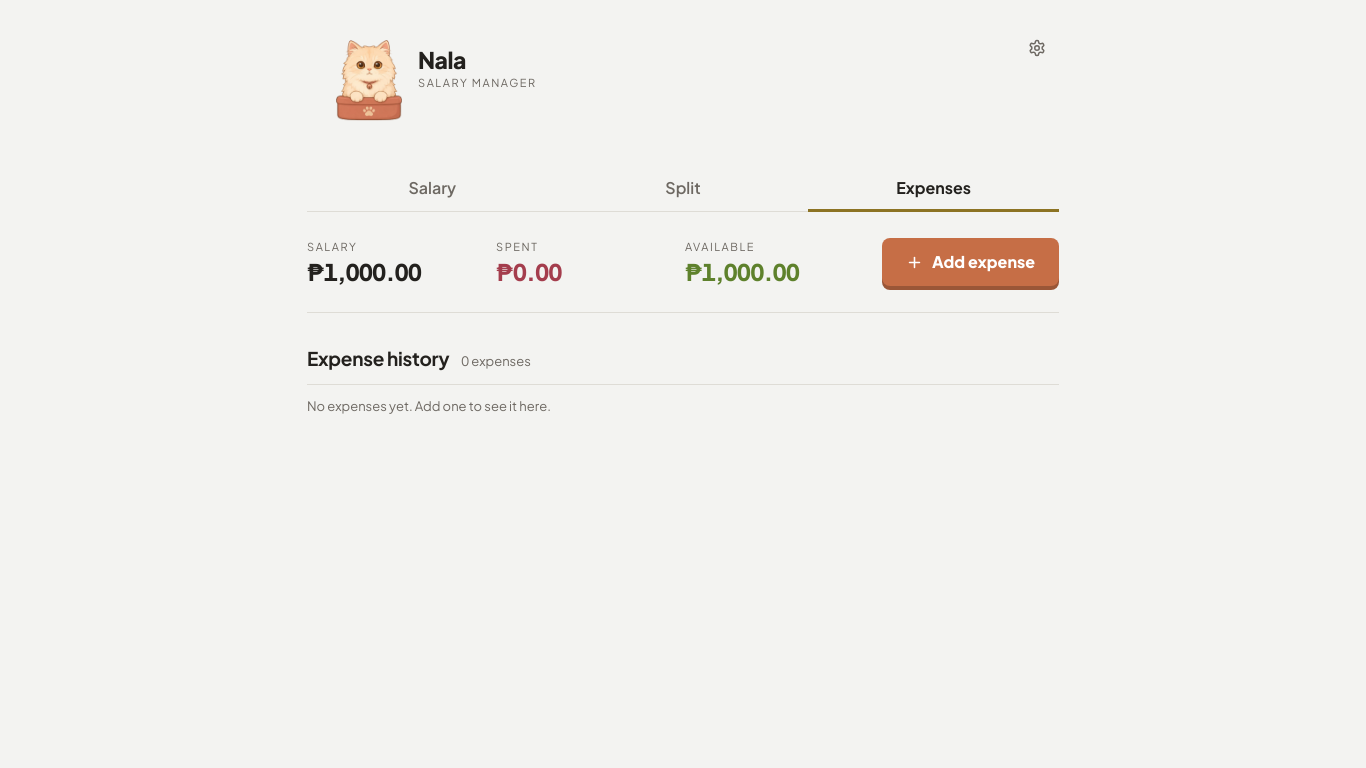
Scenario: expense tracking in App › adds an expense and updates the history and salary summary
The image size is (1366, 768).
Expected: the tab "Expenses" is shown, [808,168,1059,212]
Click the button "Add expense" at {"x": 971, "y": 262}, box [882,238,1059,286]
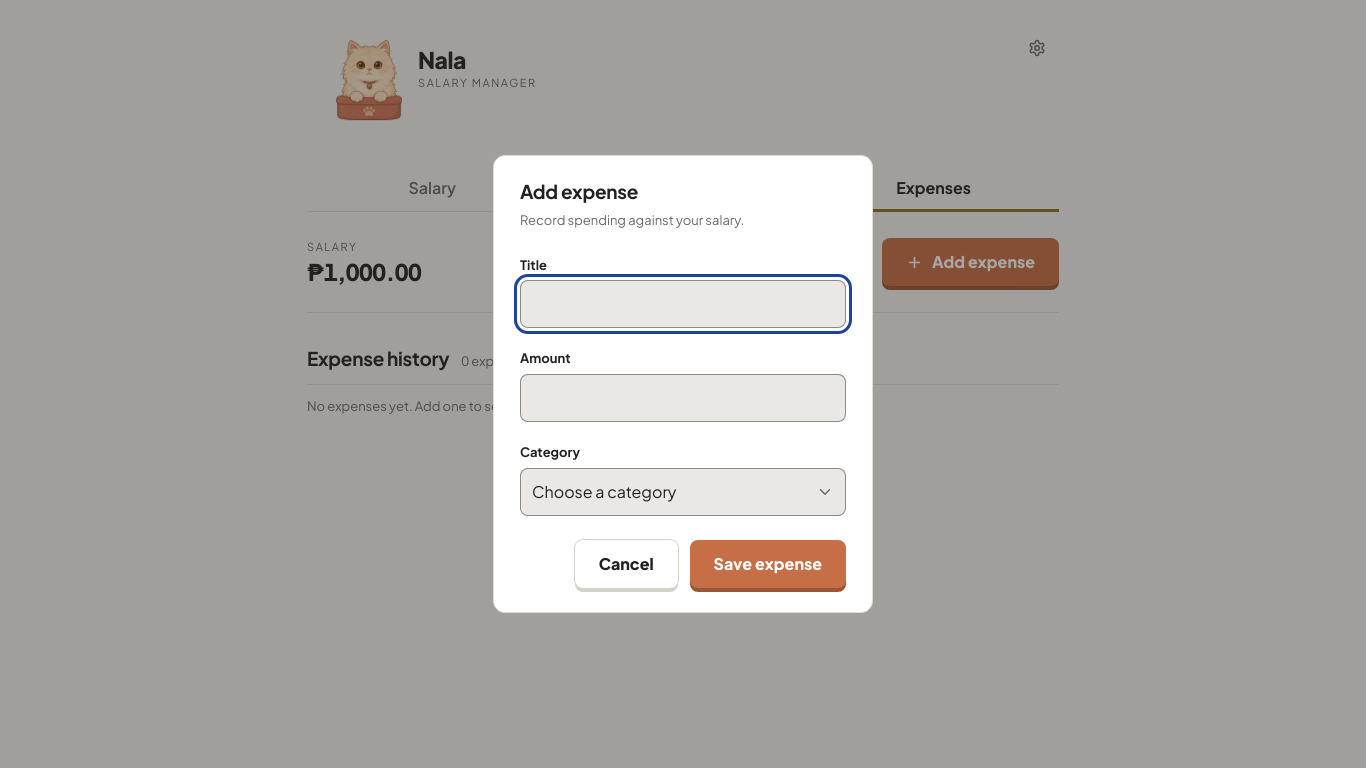
Type "Lunch" into the field labelled "Title" at {"x": 683, "y": 304}, box [520,280,846,328]
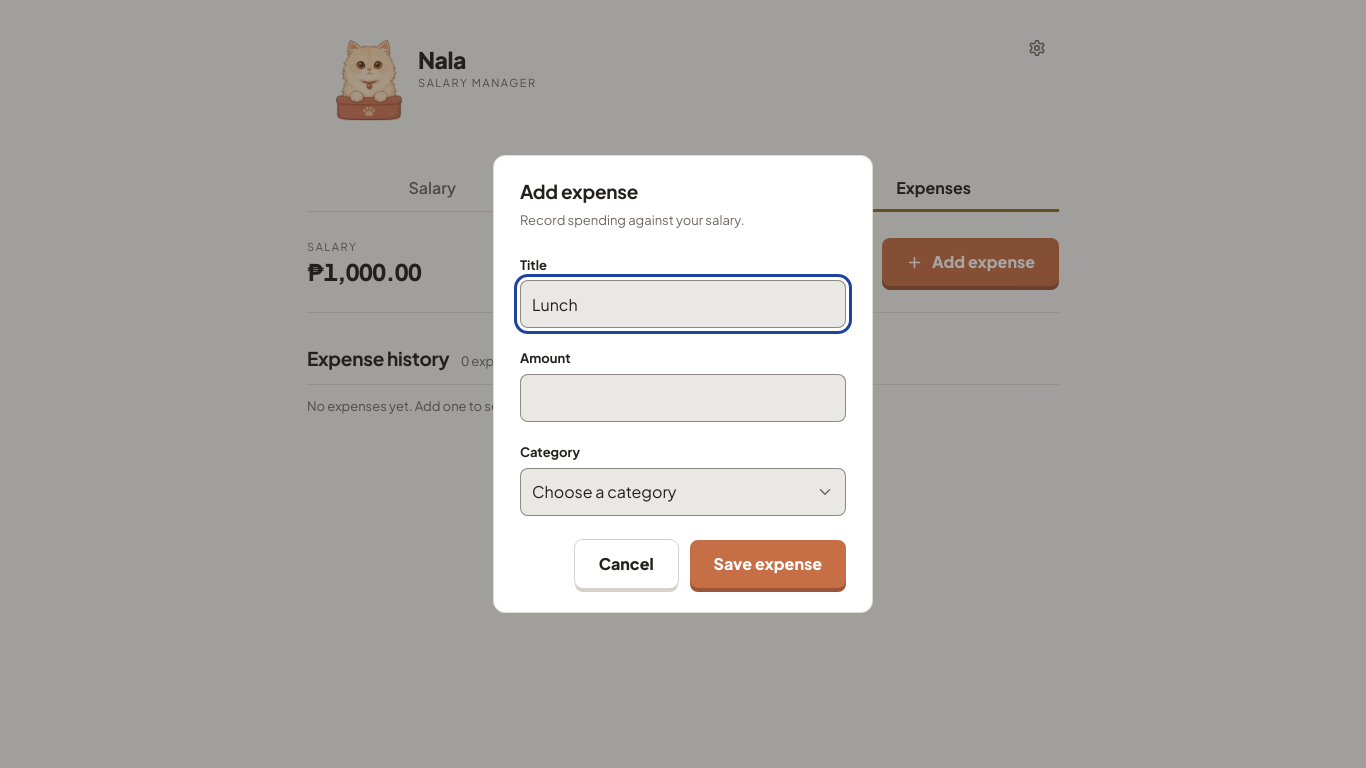
Type "250.50" into the field labelled "Amount" at {"x": 683, "y": 398}, box [520,374,846,422]
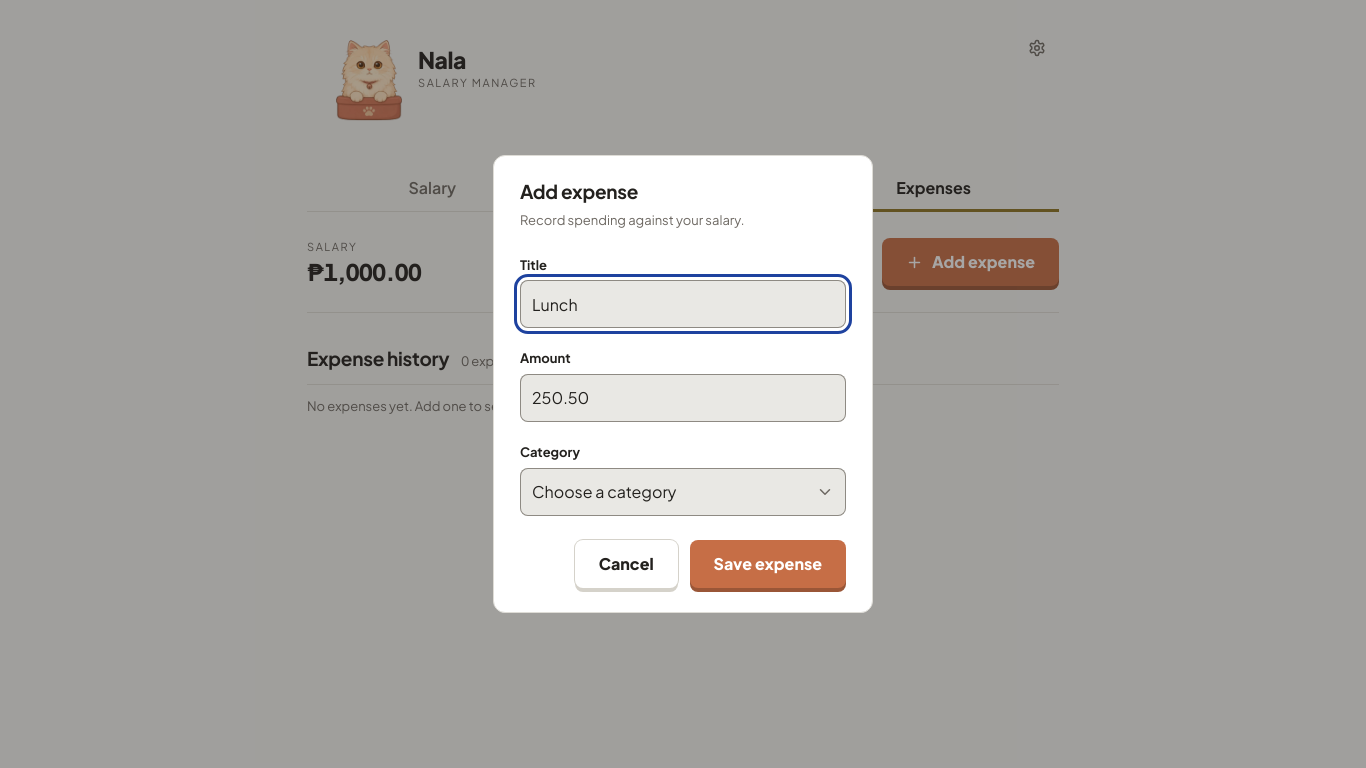
Select "Food" in the dropdown labelled "Category" at {"x": 683, "y": 492}, box [520,468,846,516]
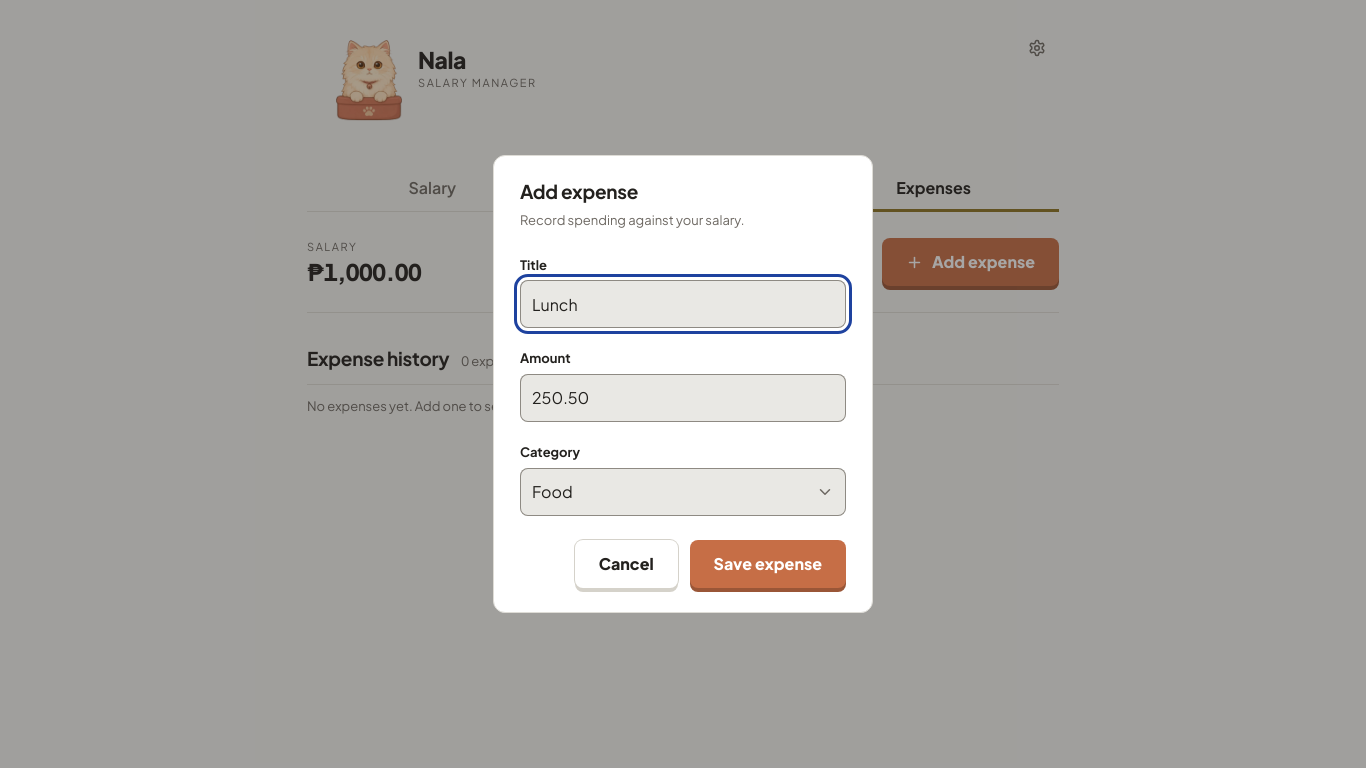
Click the button "Save expense" at {"x": 768, "y": 564}, box [690,540,846,588]
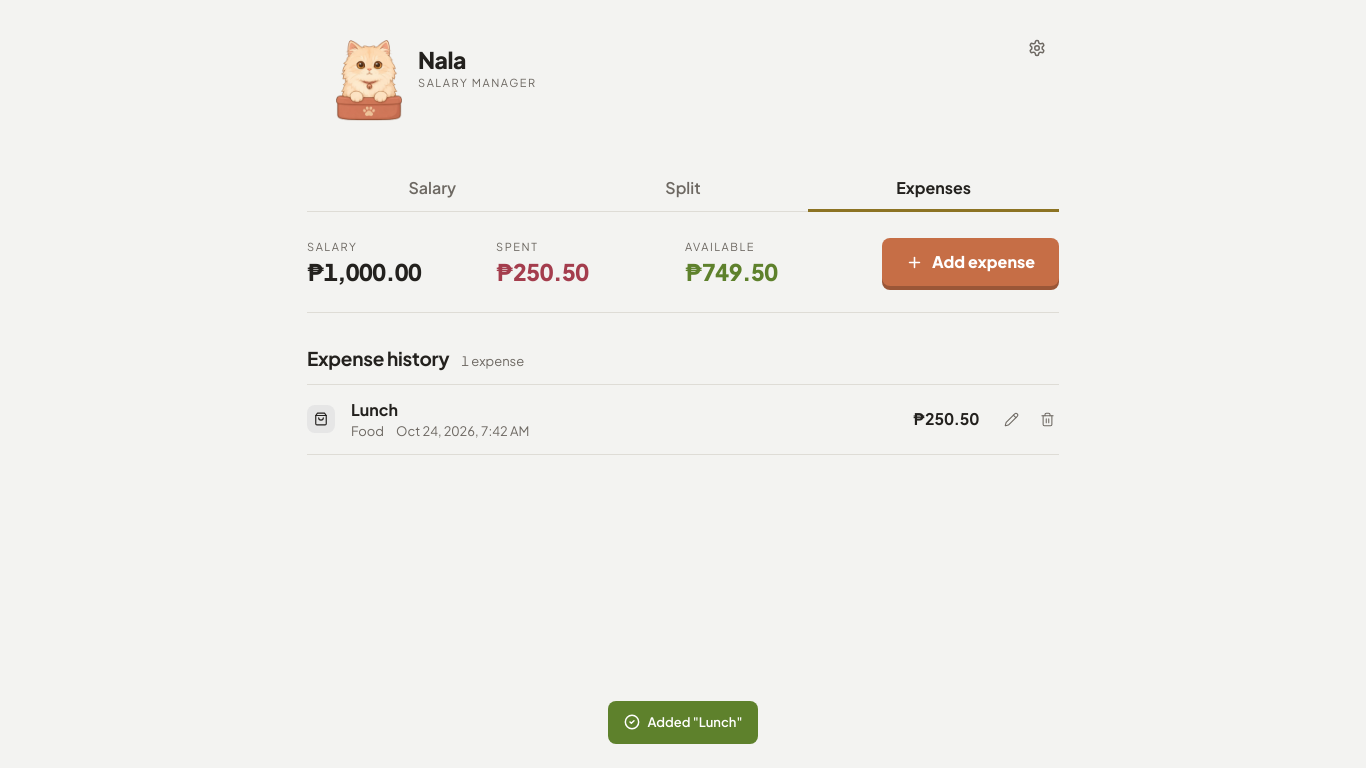
Expected: the dialog is gone
Expected: the text "Lunch" is shown, [351,398,398,420]
Expected: the text "₱749.50" is shown, [685,257,778,286]
